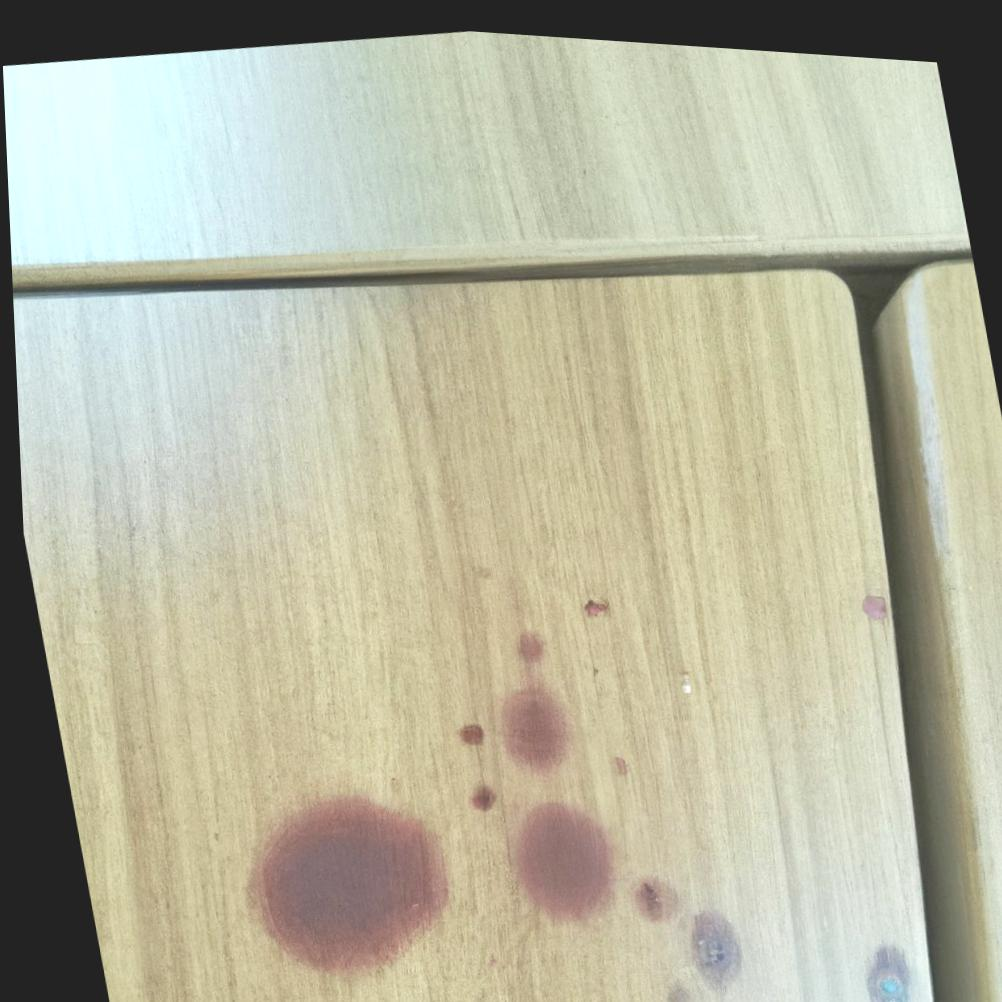Fire: (241, 788, 443, 971), (505, 793, 608, 917), (493, 623, 566, 769), (624, 868, 671, 914), (464, 779, 490, 805), (453, 718, 478, 740)
